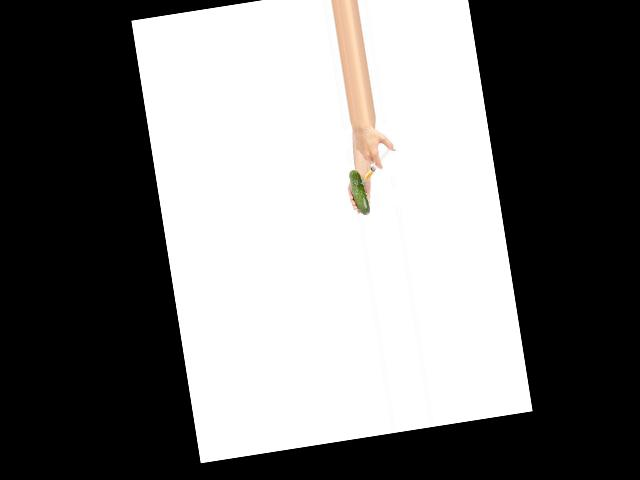cucumber: (348, 169, 370, 217)
